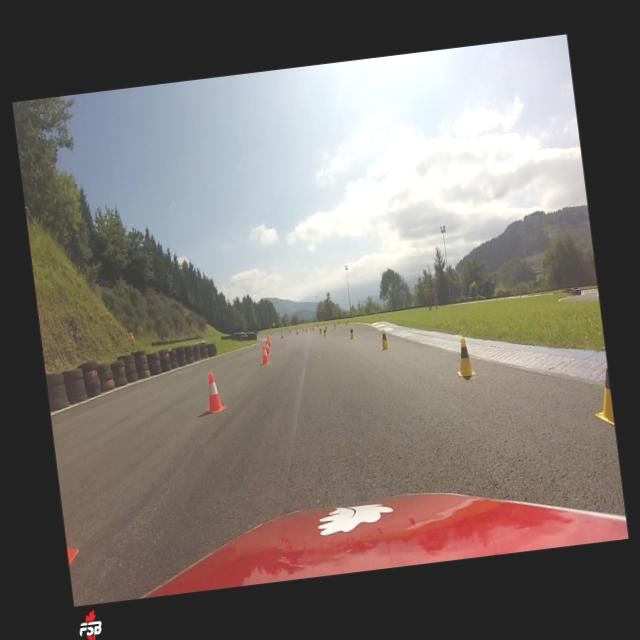orange_cone: (202, 371, 228, 414), (259, 344, 270, 364), (264, 338, 270, 354), (267, 335, 271, 347), (280, 331, 284, 338), (295, 328, 298, 334), (305, 327, 307, 332), (310, 325, 312, 330), (302, 326, 304, 331), (288, 328, 290, 332), (312, 326, 314, 330)
yellow_cone: (587, 351, 614, 427), (451, 337, 476, 378), (379, 328, 390, 350), (347, 326, 355, 339), (322, 328, 327, 337), (324, 325, 328, 332), (319, 326, 322, 334), (334, 322, 336, 329), (344, 320, 346, 326), (338, 320, 339, 324), (347, 320, 348, 324)
